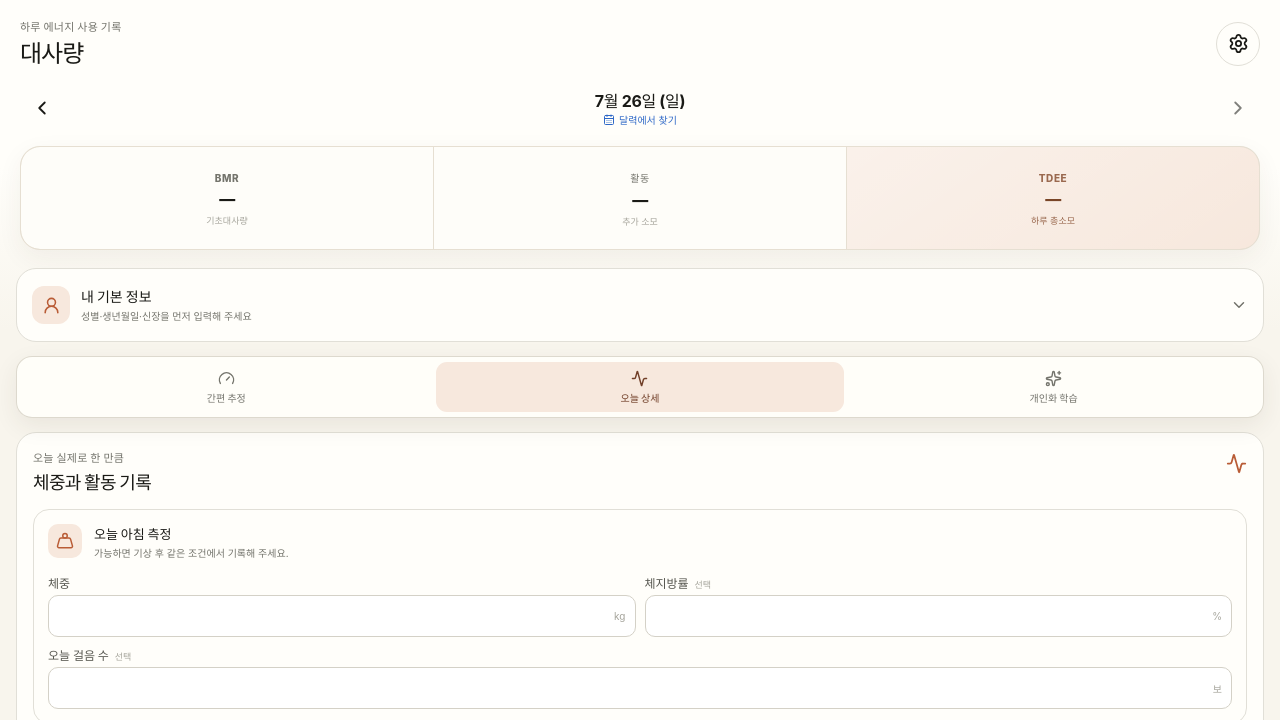
it: 처음 등록하는 신장은 기본값 없이 직접 입력한다
Click the text "내 기본 정보". click: click(116, 297)
box: [81,288,152,305]
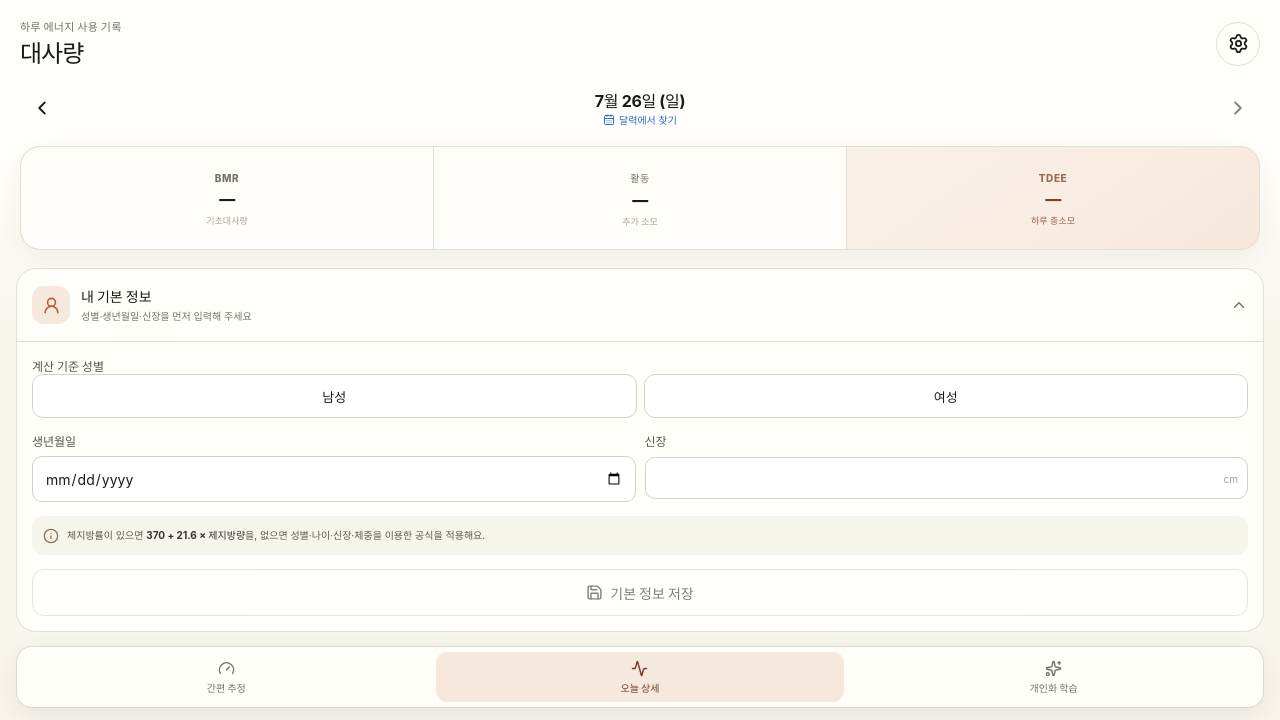
Check: the number field named "신장 (cm)" is empty, box [644,456,1248,498]
Check: the button "기본 정보 저장" is disabled, box [32,569,1248,616]
